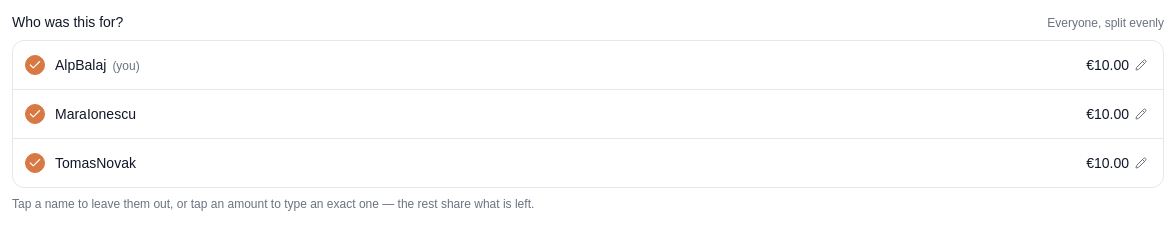
Test case: PotAttributionField › pins one share when its amount is tapped, and the rest take what is left
This screenshot has width=1176, height=232.
Click the button named "Type an exact amount for MaraIonescu" at (1117, 114), box [1078,98,1155,130]
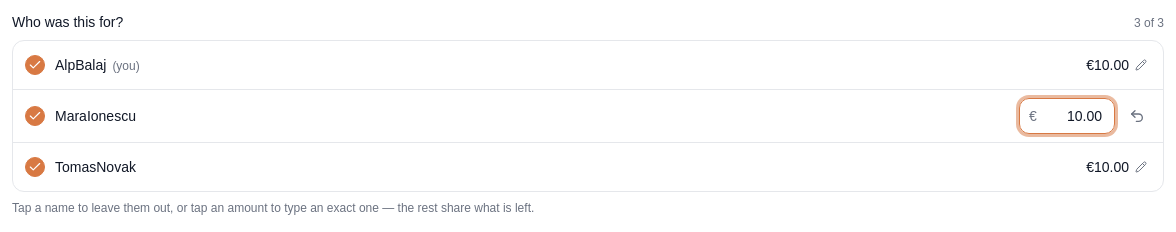
Replace the text in the field named "MaraIonescu's share" with "12" at (1067, 116), box [1019,98,1115,134]
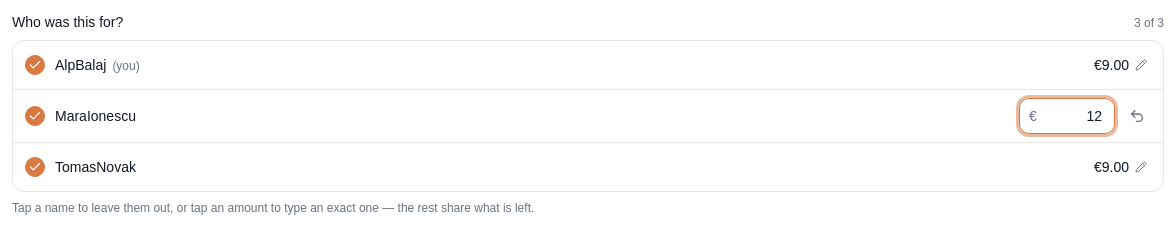
Now the button named "Type an exact amount for AlpBalaj" reads "€9.00", box [1086,49,1155,81]
Now the button named "Type an exact amount for TomasNovak" reads "€9.00", box [1086,151,1155,183]
